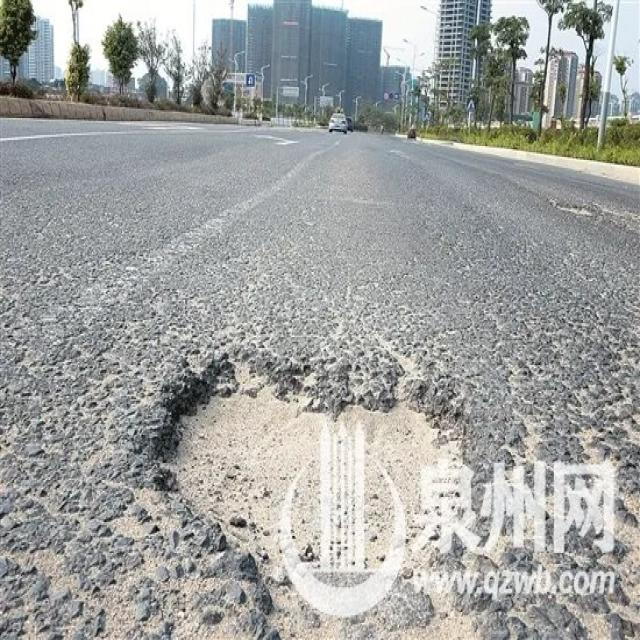Pothole: (145, 360, 512, 624), (544, 194, 610, 219)
